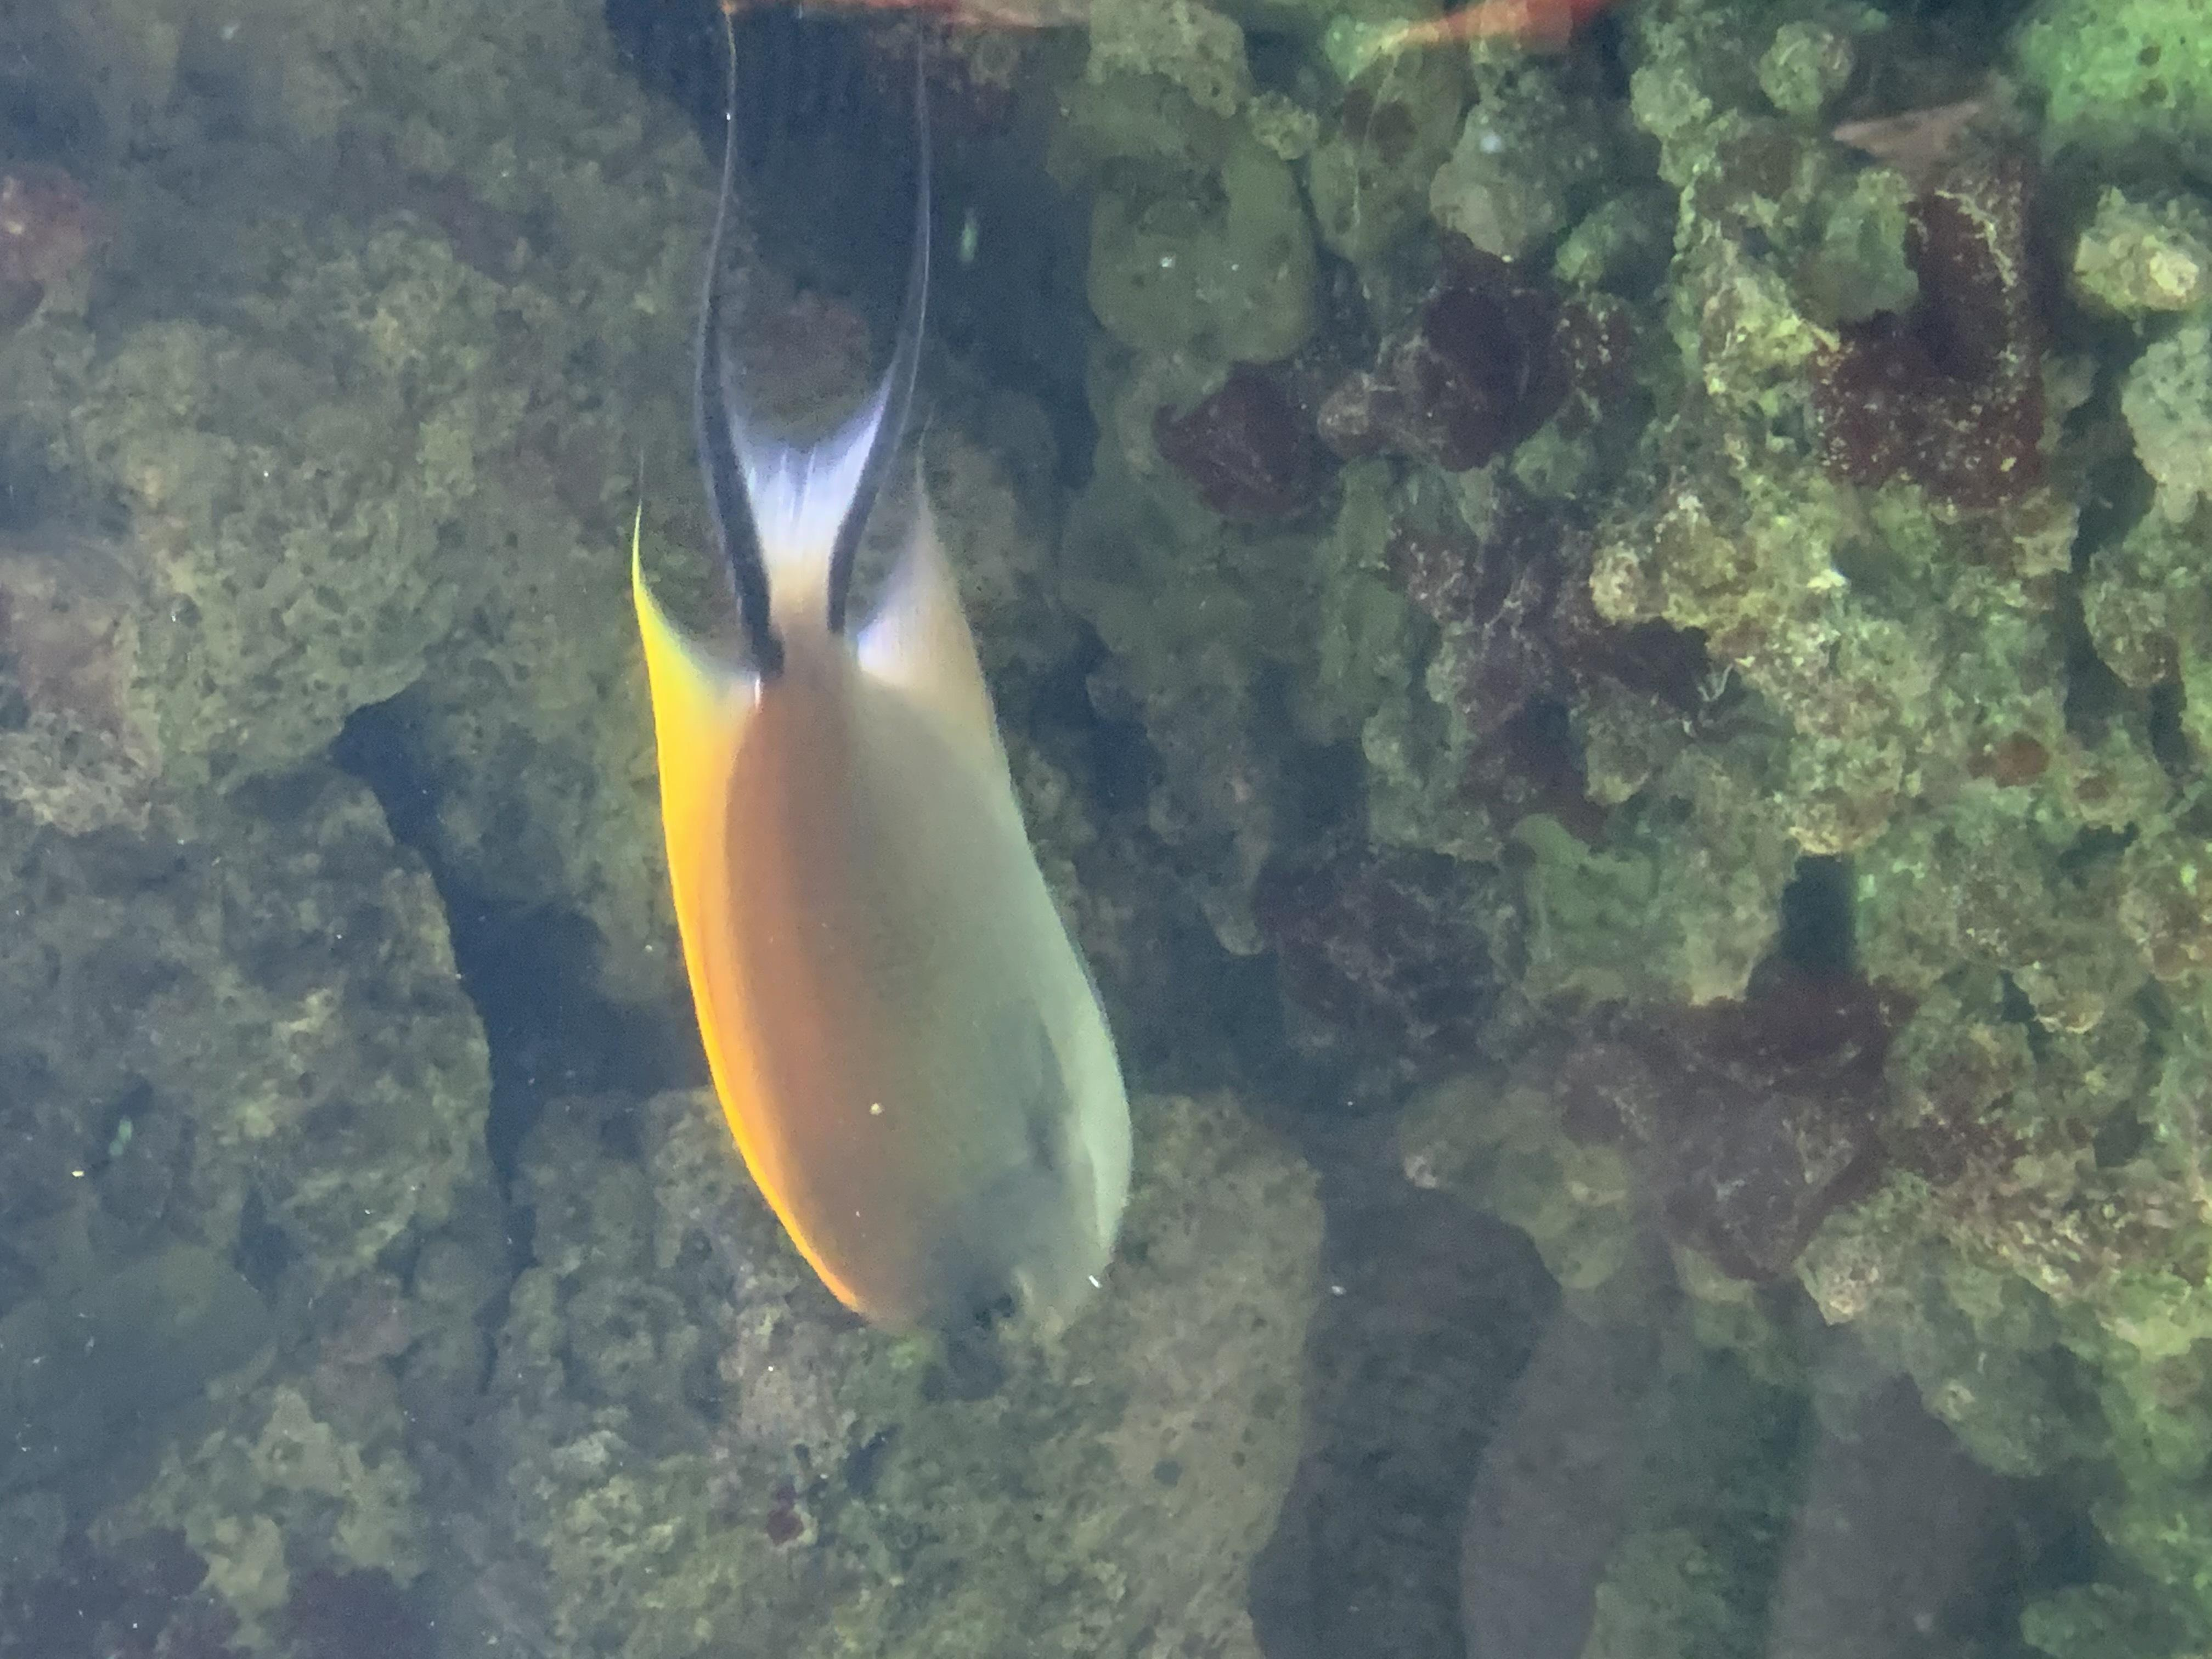fish: (631, 0, 1136, 1342)
